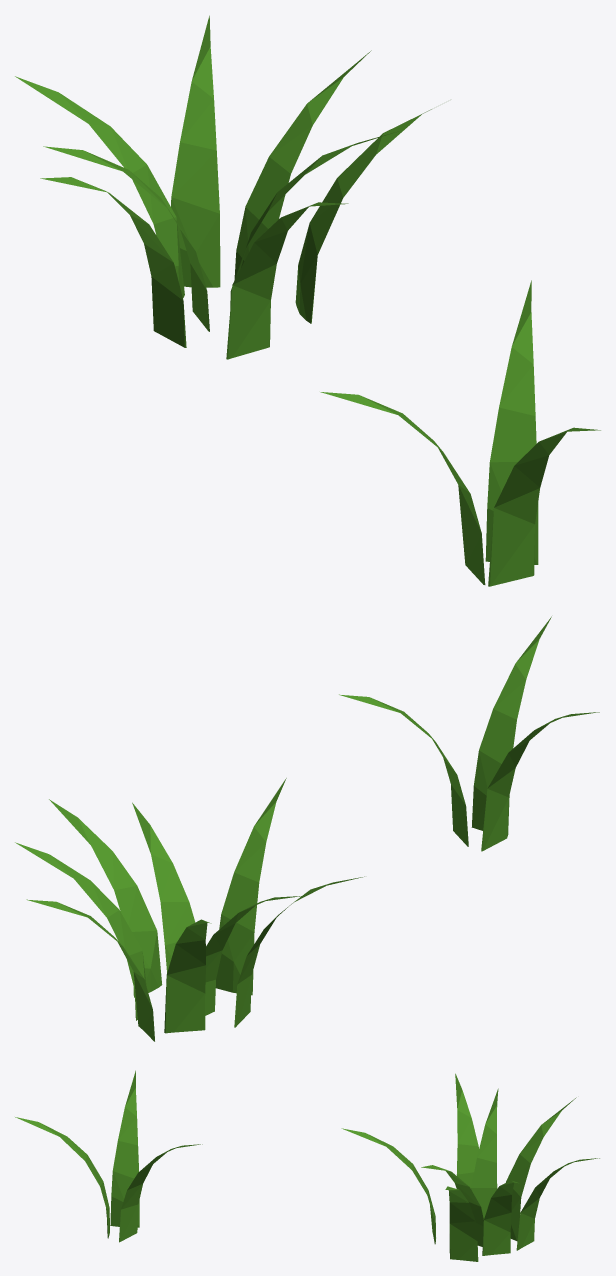
The model's file is Grass.fbx.
3 renders of one model, top to bottom at view 1: azimuth 30°, elevation 25°; view 2: azimuth 150°, elevation 25°; view 3: azimuth 270°, elevation 25°, orthographic. The views are drawn at different scales.
Parts seen in each view (by area): view 1: Grass_1, Grass_2; view 2: Grass_1, Grass_2; view 3: Grass_1, Grass_2.
Boxes of the visible parts, x1,y1,x2,y2 form: Grass_1: [15, 15, 431, 359]; Grass_2: [320, 280, 600, 586]; Grass_1: [15, 778, 364, 1041]; Grass_2: [339, 616, 599, 851]; Grass_1: [341, 1073, 599, 1261]; Grass_2: [15, 1070, 202, 1242].
Bounding box in the file's own units: 405 × 193 × 879.
